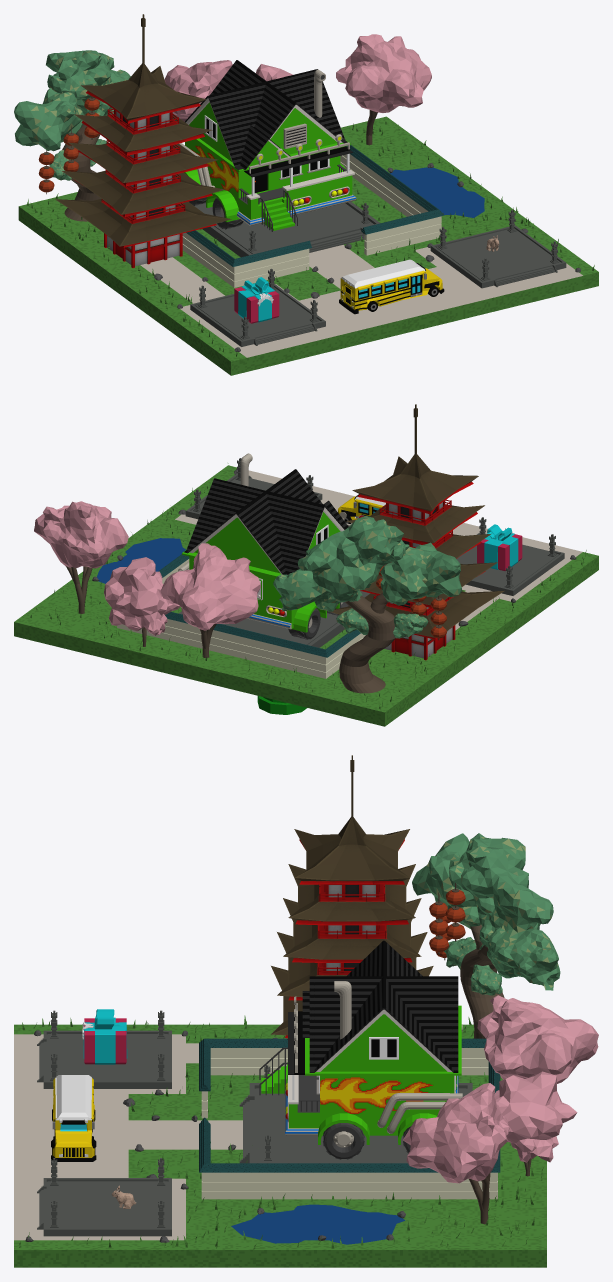
3 views of the same model, one above another, from view 1: azimuth 30°, elevation 25°; view 2: azimuth 150°, elevation 25°; view 3: azimuth 270°, elevation 25° (orthographic). The views are drawn at different scales.
Parts seen in each view (by area): view 1: Cube.005, Cube.1474, VEHICLES_SCHOOL_BUS, OBJRANDOM_GIANT_PRESENT; view 2: Cube.005, Cube.1474, OBJRANDOM_GIANT_PRESENT, VEHICLES_SCHOOL_BUS, UNDERGROUND_PIPES; view 3: Cube.005, Cube.1474, VEHICLES_SCHOOL_BUS, OBJRANDOM_GIANT_PRESENT.
Part boxes in pixels (box(x1,y1,x2,y2)): Cube.005: box(14, 14, 598, 375); Cube.1474: box(179, 60, 356, 231); VEHICLES_SCHOOL_BUS: box(339, 259, 444, 314); OBJRANDOM_GIANT_PRESENT: box(234, 277, 279, 323); Cube.005: box(14, 404, 598, 726); Cube.1474: box(178, 453, 350, 639); OBJRANDOM_GIANT_PRESENT: box(477, 524, 522, 570); VEHICLES_SCHOOL_BUS: box(338, 494, 385, 523); UNDERGROUND_PIPES: box(257, 696, 306, 714); Cube.005: box(14, 755, 598, 1267); Cube.1474: box(259, 940, 462, 1159); VEHICLES_SCHOOL_BUS: box(51, 1075, 96, 1161); OBJRANDOM_GIANT_PRESENT: box(82, 1009, 127, 1064).
Bounding box in the file's own units: 4528 × 3273 × 4389.
Materials: 46 (6 with a texture image).
